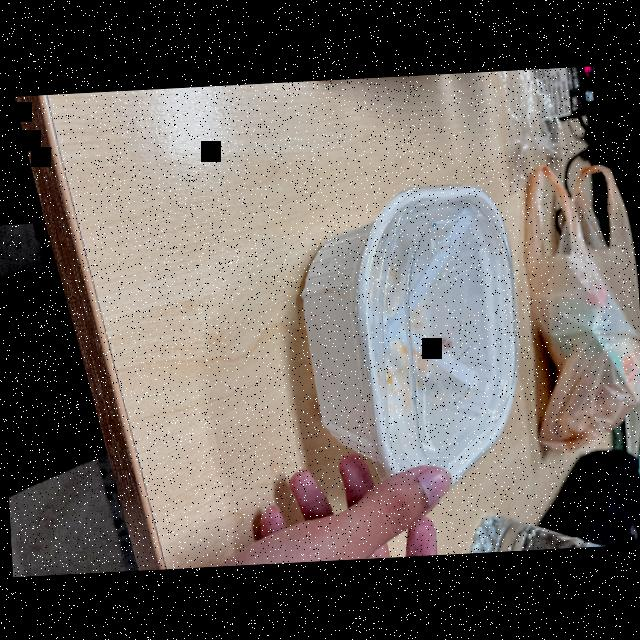plastic_box: (296, 168, 528, 507)
